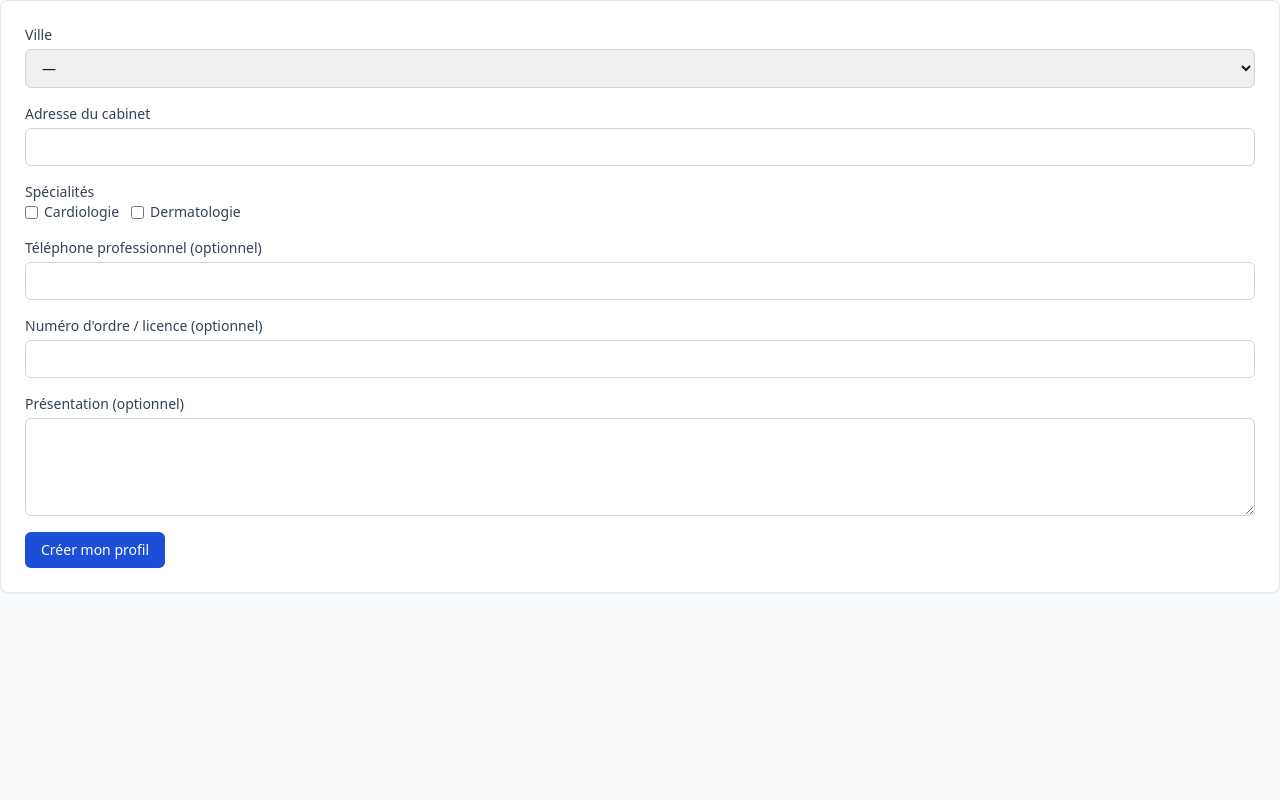
Scenario: DoctorProfileForm › création : bloque la soumission tant qu'aucune spécialité n'est cochée
Select "Casablanca" in the dropdown labelled "Ville" at (640, 68), box x1=25 y1=49 x2=1255 y2=88
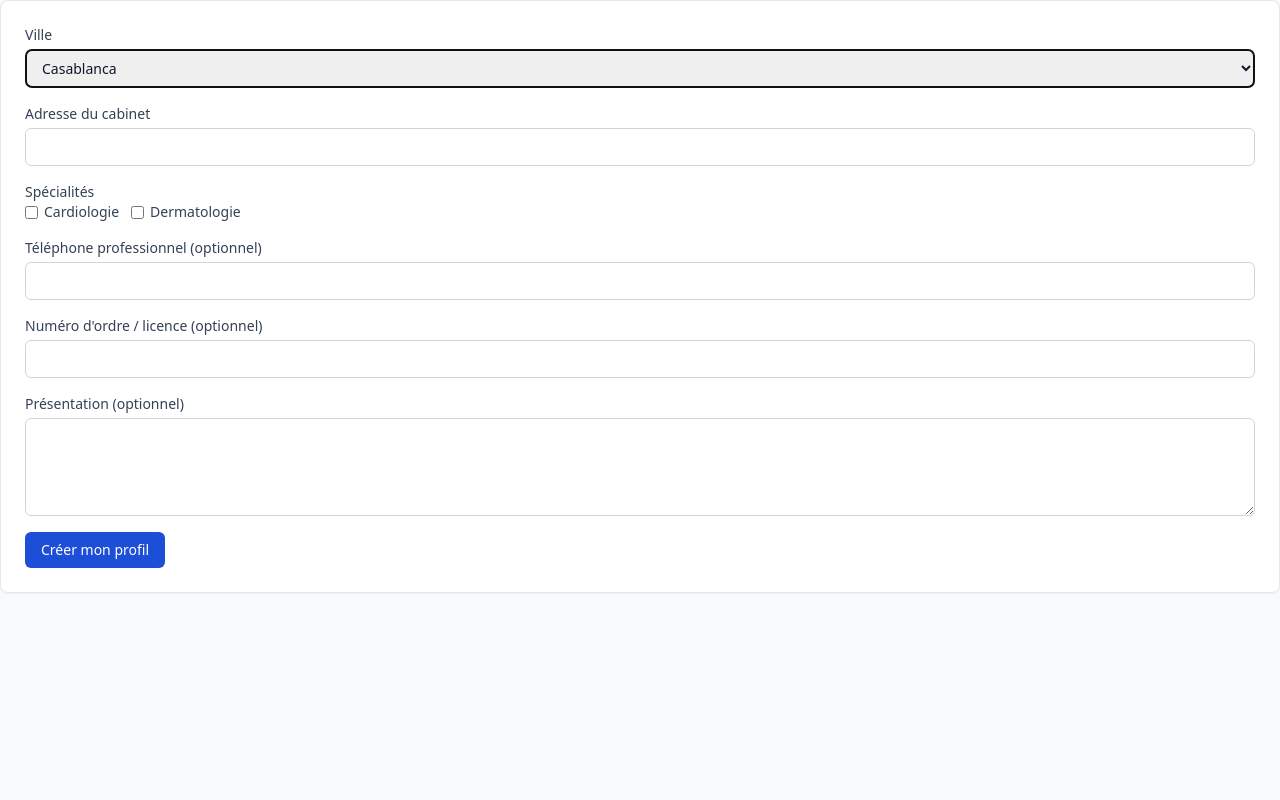
Type "12 rue des Fleurs" into the field labelled "Adresse du cabinet" at (640, 147), box x1=25 y1=128 x2=1255 y2=166
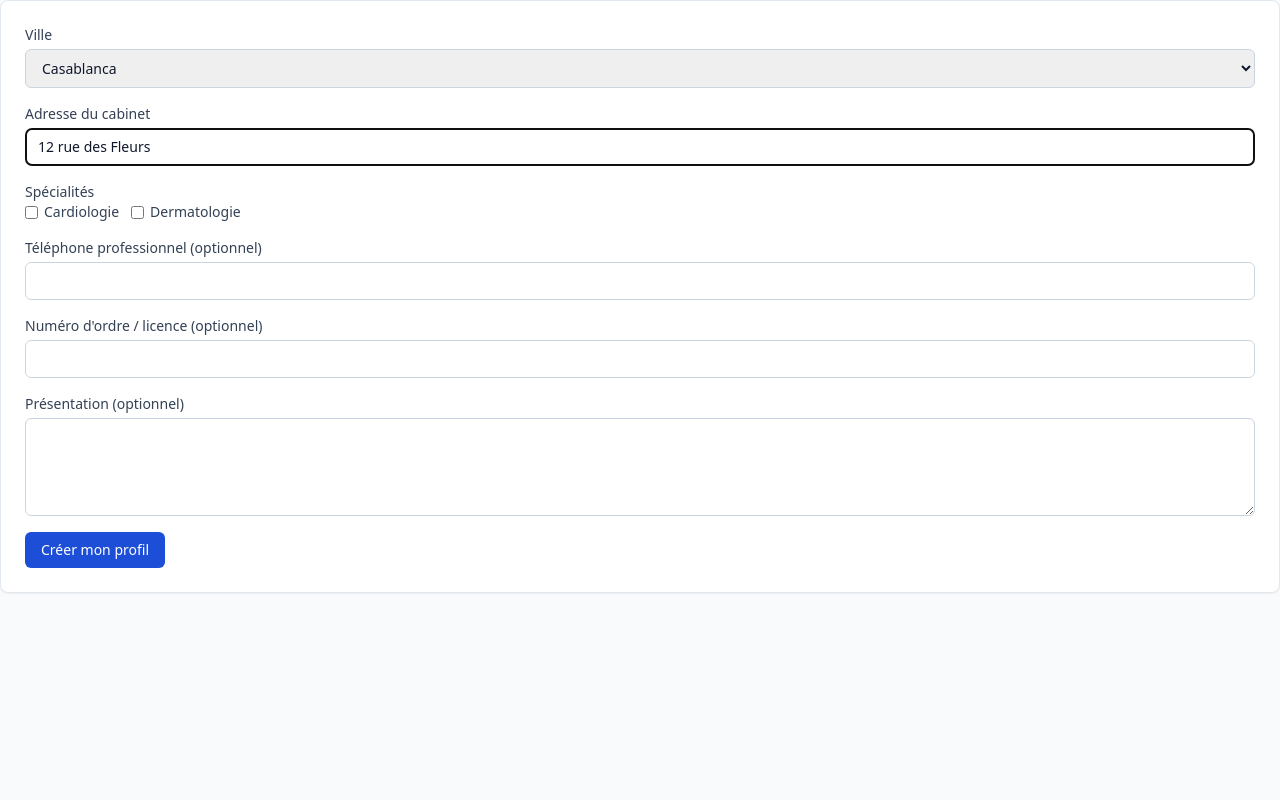
Click the button "Créer mon profil" at (95, 550), box x1=25 y1=532 x2=165 y2=568
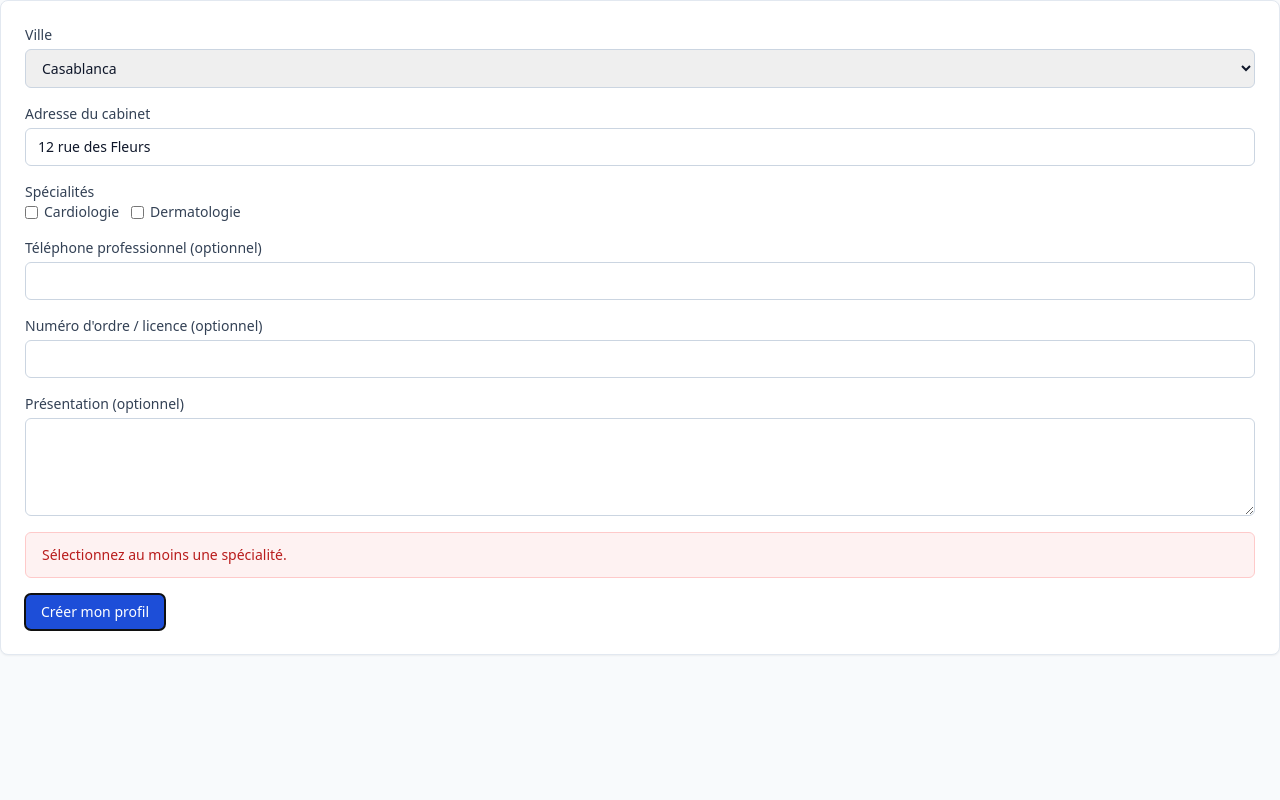
Result: the text "Sélectionnez au moins une spécialité." is shown at x1=25 y1=532 x2=1255 y2=578
